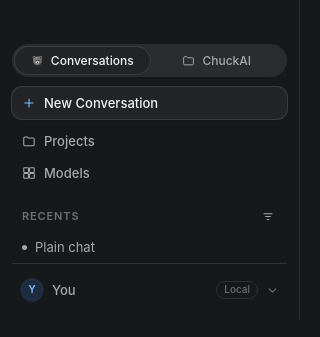
Scenario: Hermes section › the Conversations/Hermes toggle switches which list renders
Expected: the text "Plain chat" is shown, [35,239,95,255]
Expected: the text "ZRResearch" is not shown
Click the button "ChuckAI". click: {"x": 217, "y": 60}
box: [150,47,284,74]
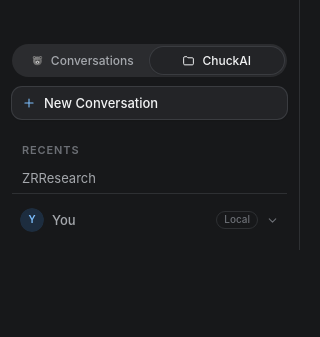
Result: the text "ZRResearch" is shown at [22,170,96,186]
Result: the button "Plain chat" is gone
